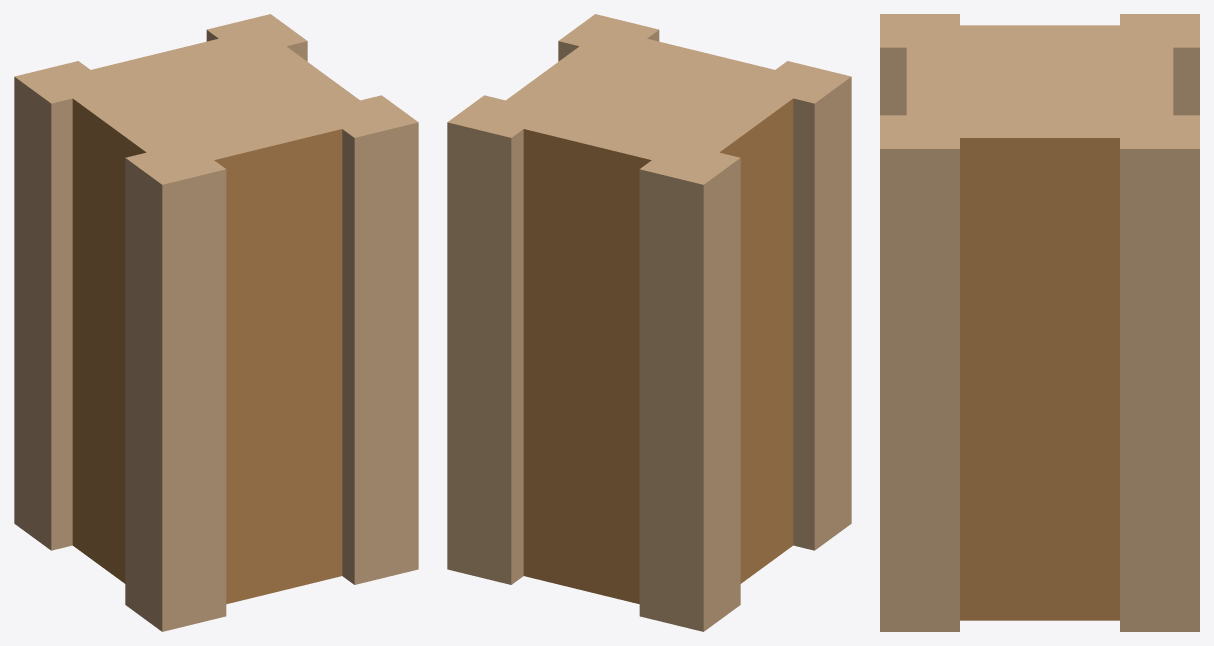
Rendered from Pillar_Large_Middle.fbx.
3 views of the same model, side by side, from view 1: azimuth 30°, elevation 25°; view 2: azimuth 150°, elevation 25°; view 3: azimuth 270°, elevation 25° (orthographic). The views are drawn at different scales.
Visible parts, largest first — view 1: Sandstone_4.Sandstone_4.Sandstone_4.Sandstone_4.object1, Sandstone_6.Sandstone_6.Sandstone_6.Sandstone_6; view 2: Sandstone_4.Sandstone_4.Sandstone_4.Sandstone_4.object1, Sandstone_6.Sandstone_6.Sandstone_6.Sandstone_6; view 3: Sandstone_4.Sandstone_4.Sandstone_4.Sandstone_4.object1, Sandstone_6.Sandstone_6.Sandstone_6.Sandstone_6.
Part boxes in pixels (x1=…): Sandstone_4.Sandstone_4.Sandstone_4.Sandstone_4.object1: x1=14, y1=14, x2=418, y2=631; Sandstone_6.Sandstone_6.Sandstone_6.Sandstone_6: x1=72, y1=99, x2=342, y2=604; Sandstone_4.Sandstone_4.Sandstone_4.Sandstone_4.object1: x1=447, y1=14, x2=851, y2=631; Sandstone_6.Sandstone_6.Sandstone_6.Sandstone_6: x1=523, y1=99, x2=793, y2=604; Sandstone_4.Sandstone_4.Sandstone_4.Sandstone_4.object1: x1=880, y1=14, x2=1199, y2=631; Sandstone_6.Sandstone_6.Sandstone_6.Sandstone_6: x1=960, y1=138, x2=1119, y2=620.
Bounding box in the file's own units: 0.6 × 1 × 0.6.
